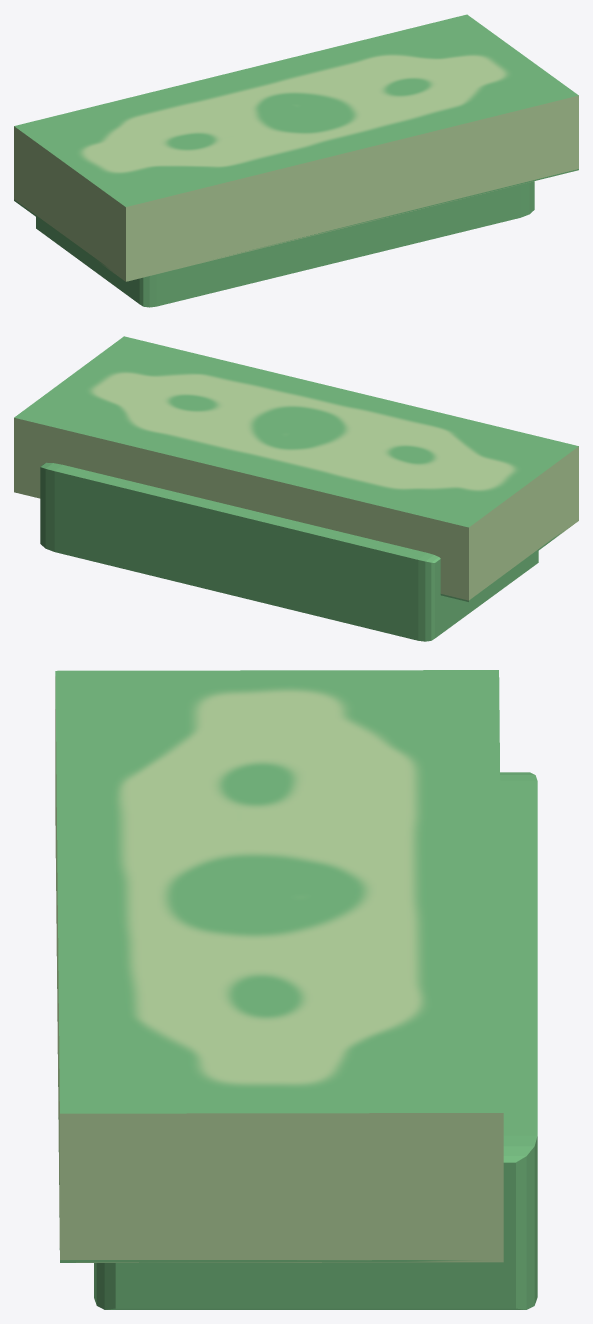
The model's file is 5 dollars 1.fbx.
3 views of the same model, one above another, from view 1: azimuth 30°, elevation 25°; view 2: azimuth 150°, elevation 25°; view 3: azimuth 270°, elevation 25° (orthographic). The views are drawn at different scales.
Visible parts, largest first — view 1: Cube.005, Cube; view 2: Cube.005, Cube; view 3: Cube.005, Cube.
Boxes of the visible parts, x1=… form: Cube.005: x1=14, y1=14, x2=578, y2=281; Cube: x1=36, y1=181, x2=534, y2=307; Cube.005: x1=14, y1=336, x2=578, y2=601; Cube: x1=40, y1=462, x2=538, y2=641; Cube.005: x1=55, y1=670, x2=503, y2=1262; Cube: x1=94, y1=772, x2=537, y2=1309.
Size of the model in its own units: 473 by 116 by 217.
